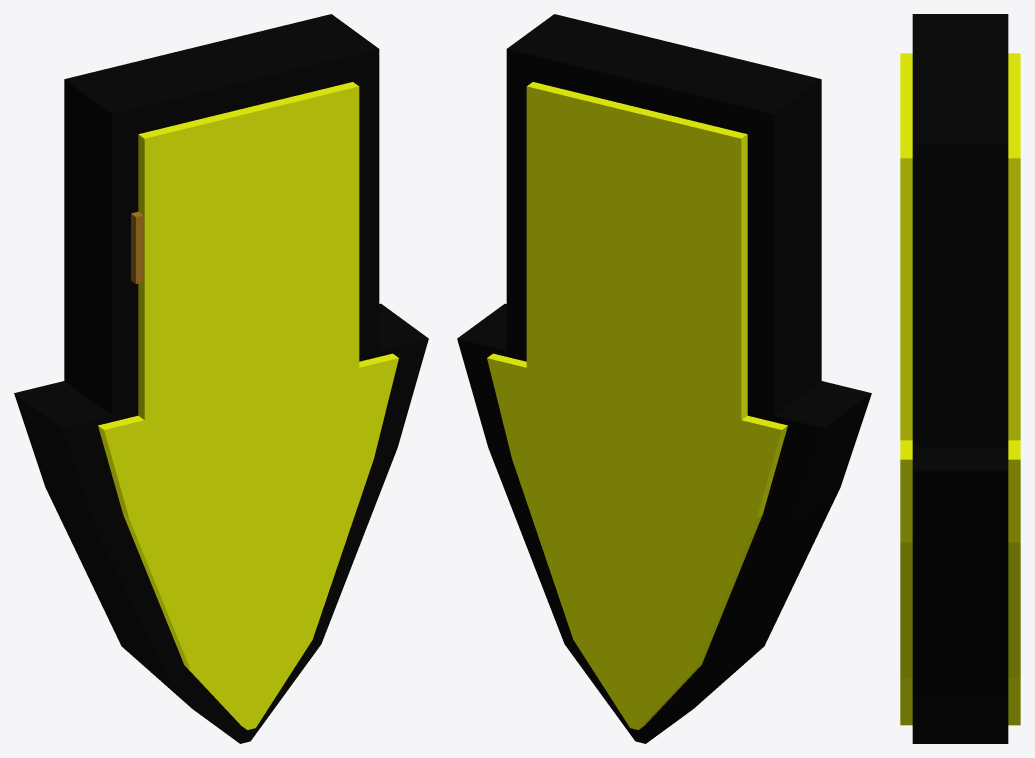
Rendered from Arrow.fbx.
The picture shows the model from 3 angles, left to right: view 1: azimuth 30°, elevation 25°; view 2: azimuth 150°, elevation 25°; view 3: azimuth 270°, elevation 25°; orthographic projection.
Parts seen in each view (by area): view 1: Arrow; view 2: Arrow; view 3: Arrow.
Part boxes in pixels (left/top/right/bottom): Arrow: left=14, top=14, right=428, bottom=743; Arrow: left=457, top=14, right=871, bottom=743; Arrow: left=900, top=14, right=1020, bottom=743.
Bounding box in the file's own units: 190 × 328 × 54.09.
1 material, 1 textured.
